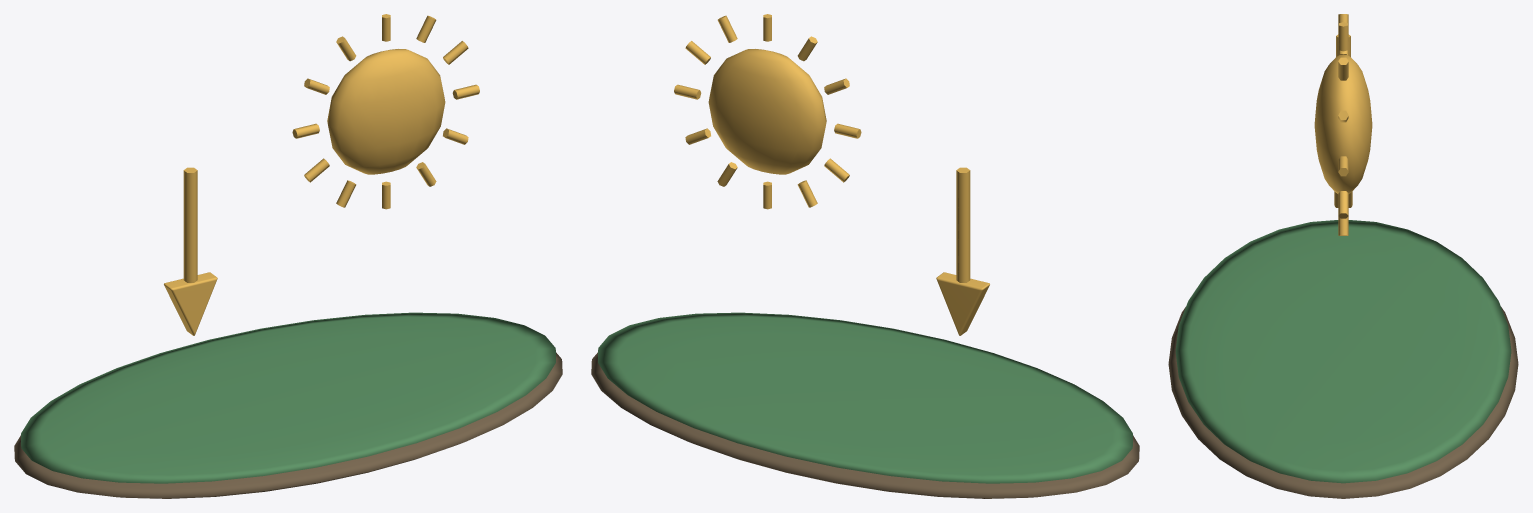
The model's file is after-noon.glb.
3 renders of one model, left to right at view 1: azimuth 30°, elevation 25°; view 2: azimuth 150°, elevation 25°; view 3: azimuth 270°, elevation 25°, orthographic. The views are drawn at different scales.
Visible parts, largest first — view 1: after-noon_surface_01, after-noon_surface_02, after-noon_surface_00; view 2: after-noon_surface_01, after-noon_surface_02, after-noon_surface_00; view 3: after-noon_surface_01, after-noon_surface_02, after-noon_surface_00.
Part boxes in pixels (bbox=[...]): after-noon_surface_01: bbox=[21, 312, 555, 483]; after-noon_surface_02: bbox=[164, 14, 479, 335]; after-noon_surface_00: bbox=[14, 352, 562, 498]; after-noon_surface_01: bbox=[598, 312, 1132, 483]; after-noon_surface_02: bbox=[674, 14, 989, 335]; after-noon_surface_00: bbox=[591, 352, 1139, 498]; after-noon_surface_01: bbox=[1175, 220, 1511, 483]; after-noon_surface_02: bbox=[1314, 14, 1372, 235]; after-noon_surface_00: bbox=[1168, 307, 1518, 498].
Bounding box in the file's own units: 4.56 × 3.2 × 2.5.
